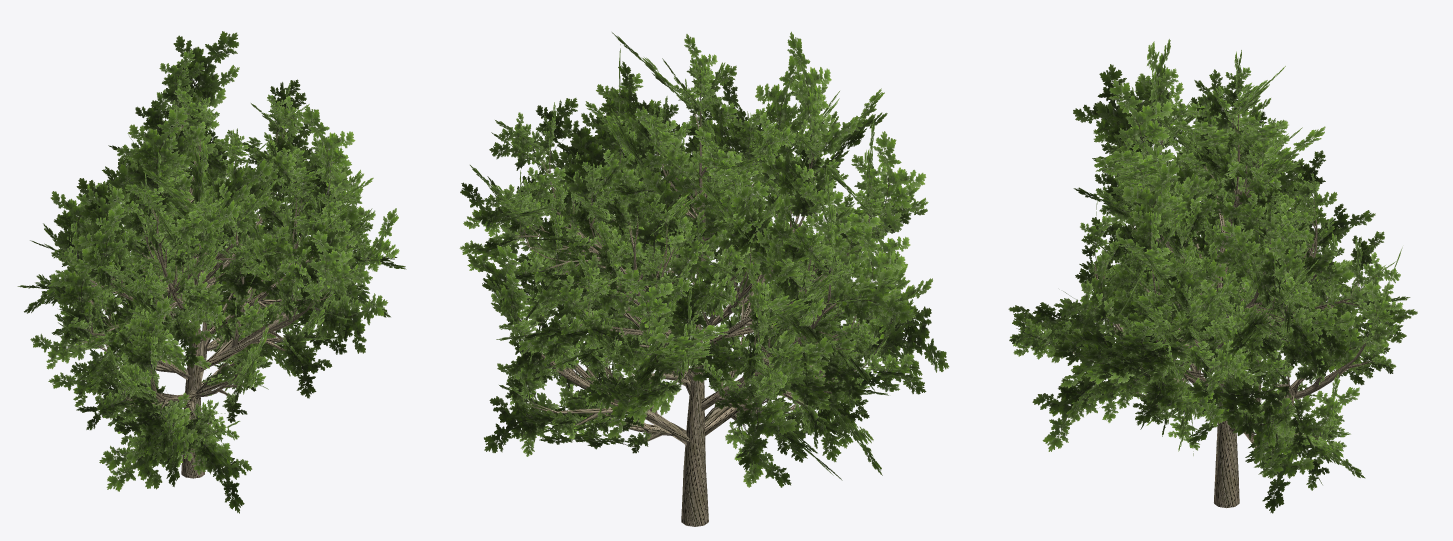
Rendered from tree_oak_large.glb.
The picture shows the model from 3 angles, left to right: view 1: azimuth 30°, elevation 25°; view 2: azimuth 150°, elevation 25°; view 3: azimuth 270°, elevation 25°; orthographic projection. The views are drawn at different scales.
Parts seen in each view (by area): view 1: LOD1_leaves, LOD0_leaves, LOD0_trunk, LOD1_trunk; view 2: LOD0_leaves, LOD1_leaves, LOD0_trunk, LOD1_trunk; view 3: LOD1_leaves, LOD0_leaves, LOD0_trunk, LOD1_trunk.
Boxes of the visible parts, x1,y1,x2,y2 form: LOD1_leaves: (17, 31, 406, 513); LOD0_leaves: (39, 69, 372, 483); LOD0_trunk: (76, 119, 346, 478); LOD1_trunk: (83, 119, 331, 477); LOD0_leaves: (459, 57, 928, 483); LOD1_leaves: (460, 31, 949, 487); LOD0_trunk: (516, 101, 872, 526); LOD1_trunk: (518, 112, 874, 525); LOD1_leaves: (1008, 39, 1417, 513); LOD0_leaves: (1009, 67, 1410, 490); LOD0_trunk: (1073, 107, 1371, 508); LOD1_trunk: (1073, 114, 1370, 502).
Bounding box in the file's own units: 14.54 × 16.05 × 14.29.
Materials: 2 (2 with a texture image).
